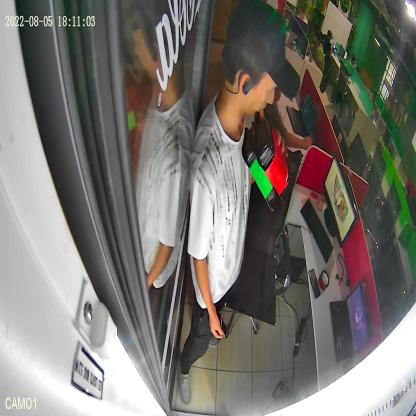green: (241, 126, 277, 212)
red: (252, 119, 290, 205)
